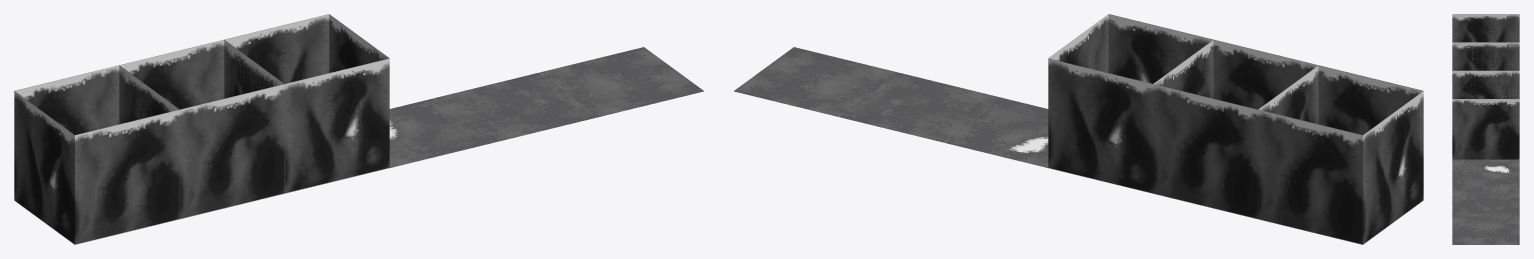
The model's file is all_tiles2.gltf.
The picture shows the model from 3 angles, left to right: view 1: azimuth 30°, elevation 25°; view 2: azimuth 150°, elevation 25°; view 3: azimuth 270°, elevation 25°; orthographic projection. The views are drawn at different scales.
Visible parts, largest first — view 1: 5, 4, 3, 1, 0, 2; view 2: 5, 3, 4, 1, 0, 2; view 3: 3, 5, 4, 0, 1, 2.
Part boxes in pixels (<box>): 5: <box>14,65,179,244</box>; 4: <box>119,39,284,219</box>; 3: <box>224,14,389,193</box>; 1: <box>434,72,599,142</box>; 0: <box>539,47,703,116</box>; 2: <box>389,98,494,167</box>; 5: <box>1258,65,1423,244</box>; 3: <box>1048,14,1213,193</box>; 4: <box>1153,39,1318,219</box>; 1: <box>838,72,1003,142</box>; 0: <box>734,47,898,116</box>; 2: <box>943,98,1048,167</box>; 3: <box>1452,70,1519,159</box>; 5: <box>1452,14,1519,70</box>; 4: <box>1452,42,1519,98</box>; 0: <box>1452,216,1519,244</box>; 1: <box>1452,188,1519,216</box>; 2: <box>1452,160,1519,188</box>.
Bounding box in the file's own units: 384 × 64 × 64.
Materials: 1 (1 with a texture image).
